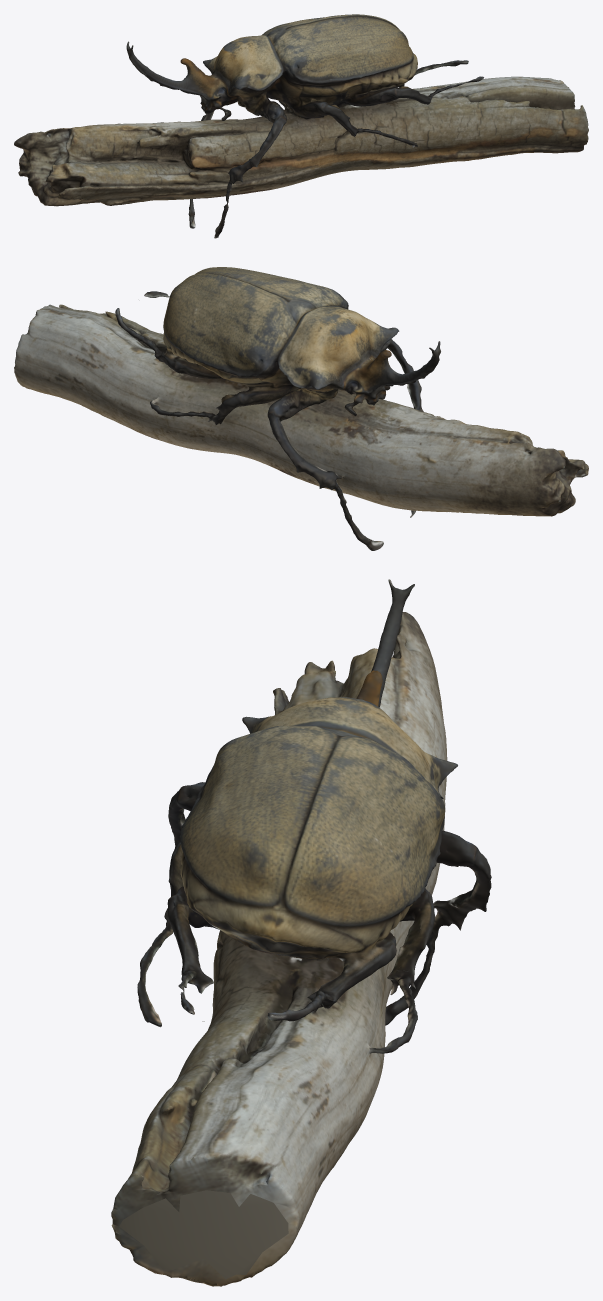
Rendered from nm__hercules.glb.
3 renders of one model, top to bottom at view 1: azimuth 30°, elevation 25°; view 2: azimuth 150°, elevation 25°; view 3: azimuth 270°, elevation 25°, orthographic. The views are drawn at different scales.
Visible parts, largest first — view 1: Object_2, Object_3; view 2: Object_3, Object_2; view 3: Object_2, Object_3.
Boxes of the visible parts, left/top/right/bottom form: Object_2: left=52, top=14, right=587, bottom=238; Object_3: left=14, top=61, right=588, bottom=228; Object_3: left=14, top=291, right=588, bottom=550; Object_2: left=14, top=267, right=566, bottom=517; Object_2: left=131, top=579, right=482, bottom=1283; Object_3: left=111, top=612, right=491, bottom=1286.
Bounding box in the file's own units: 59.01 × 21.93 × 19.4.
1 material, 1 textured.
